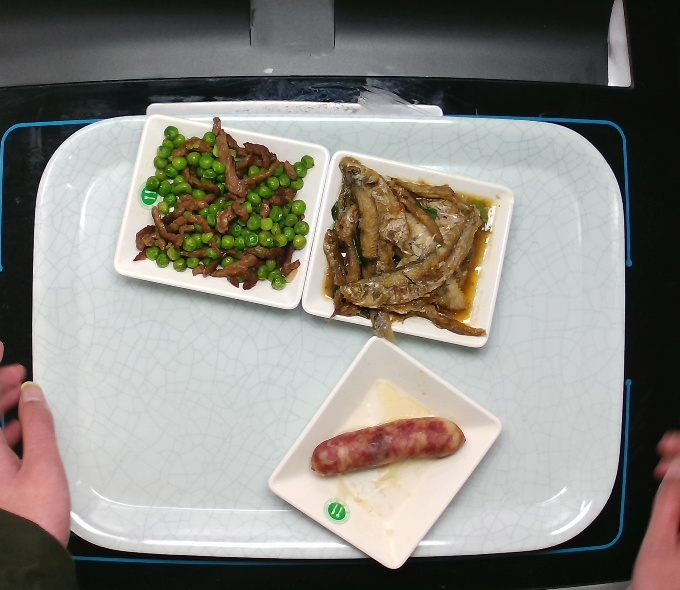wcq-CanDouNiuRou: (133, 119, 316, 292)
wcq-XiangChang: (311, 415, 469, 477)
wcq-XiaoJiYu: (321, 155, 494, 342)
